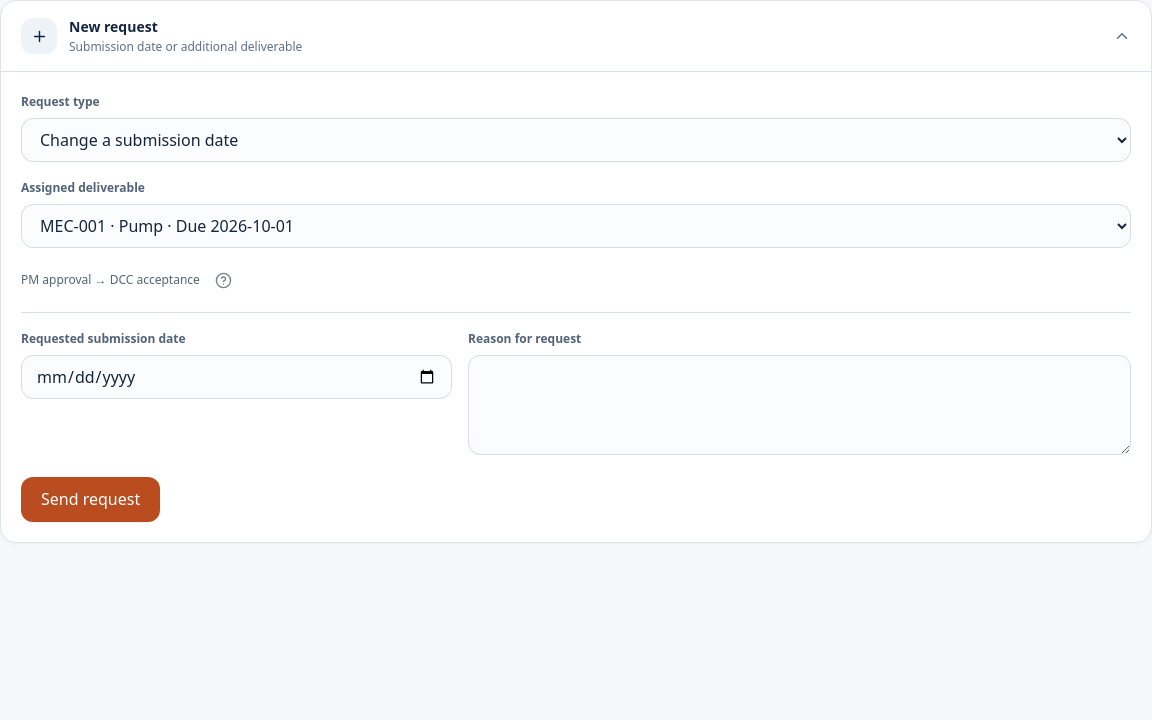
it: deliverable request forms › opens creation for a deliverable deep-link and preserves submission-date payload and validation
Type "2026-12-01" into the date field labelled "Requested submission date".
click(236, 377); type("2026-12-01")  # box [21,355,452,399]
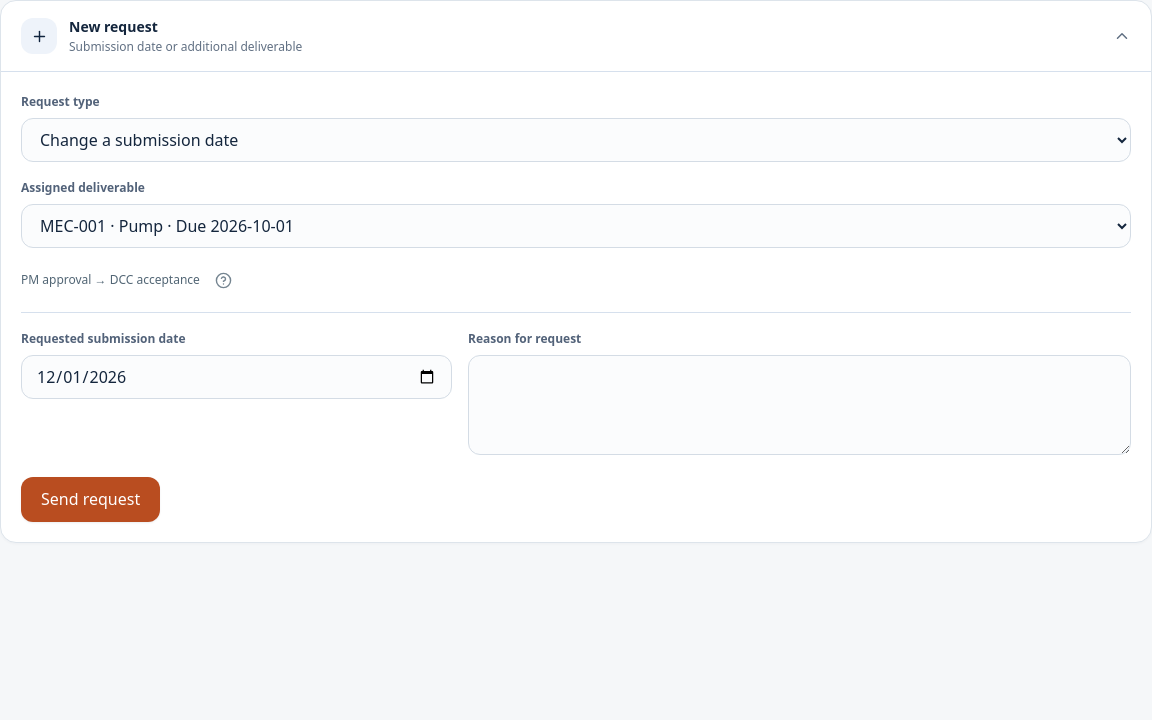
Type "Waiting for supplier data" into the text box labelled "Reason for request".
click(800, 405); type("Waiting for supplier data")  # box [468,355,1131,455]
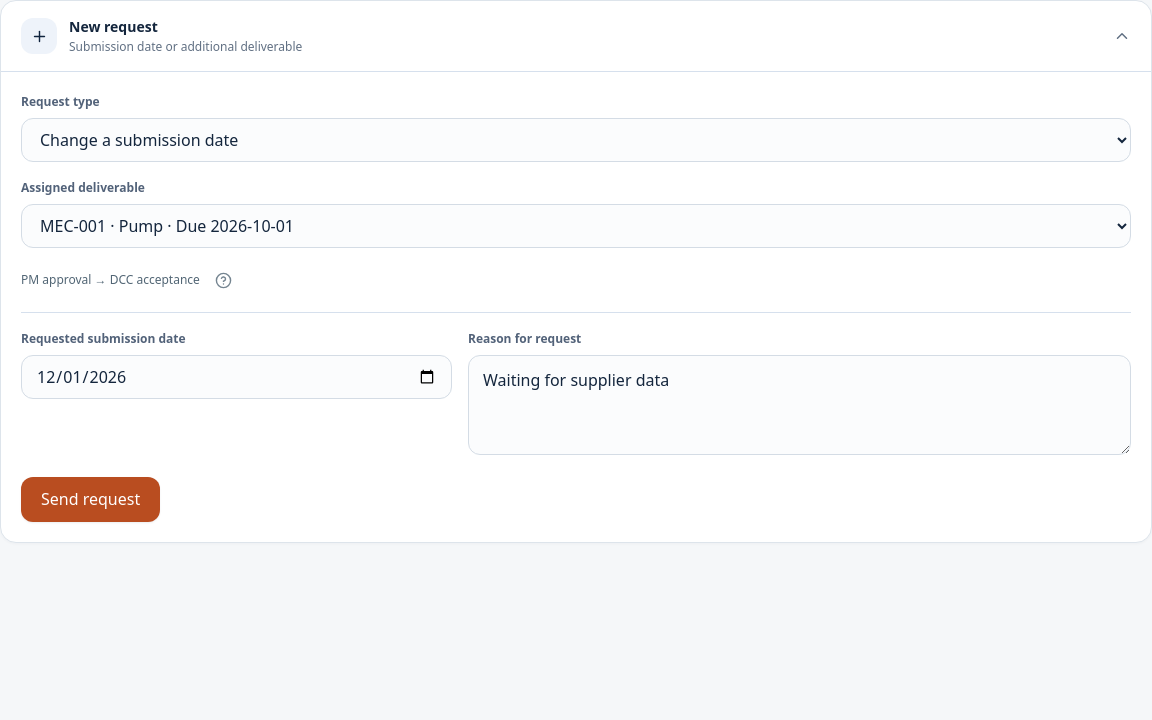
Submit the form named "New deliverable request"
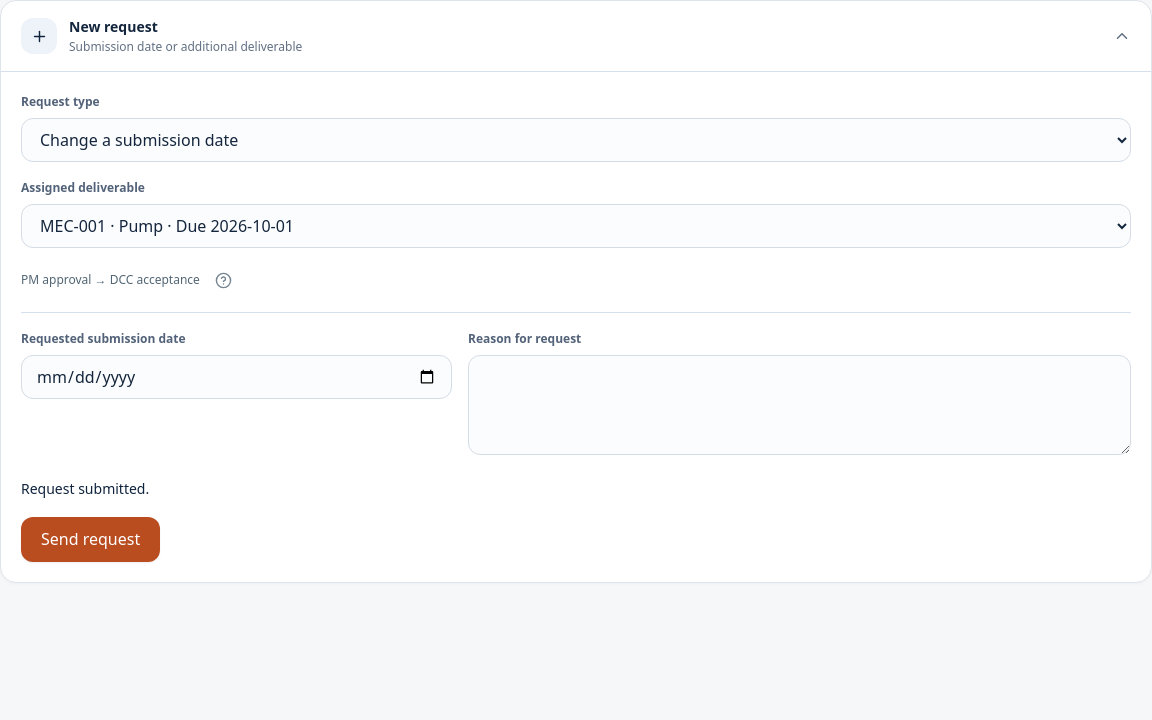
Result: the message reads "Request submitted." at [21,479,149,498]
